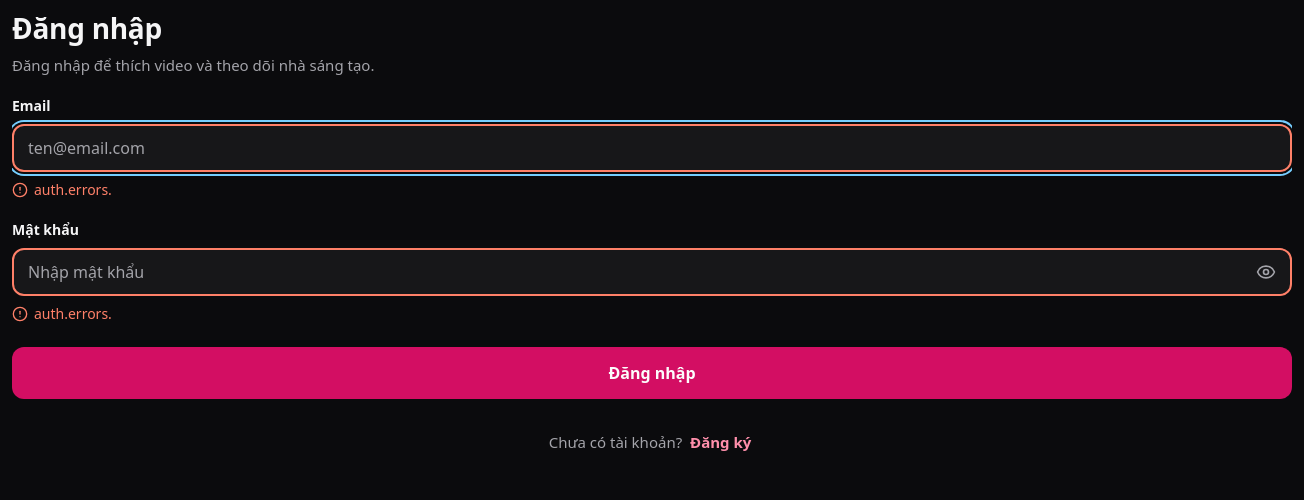
Test case: AuthForm › vi: UNAVAILABLE is an alert with a title and a body
Type "minhanh@gmail.com" into the field labelled "Email". click: (652,148)
box: [14, 126, 1290, 170]
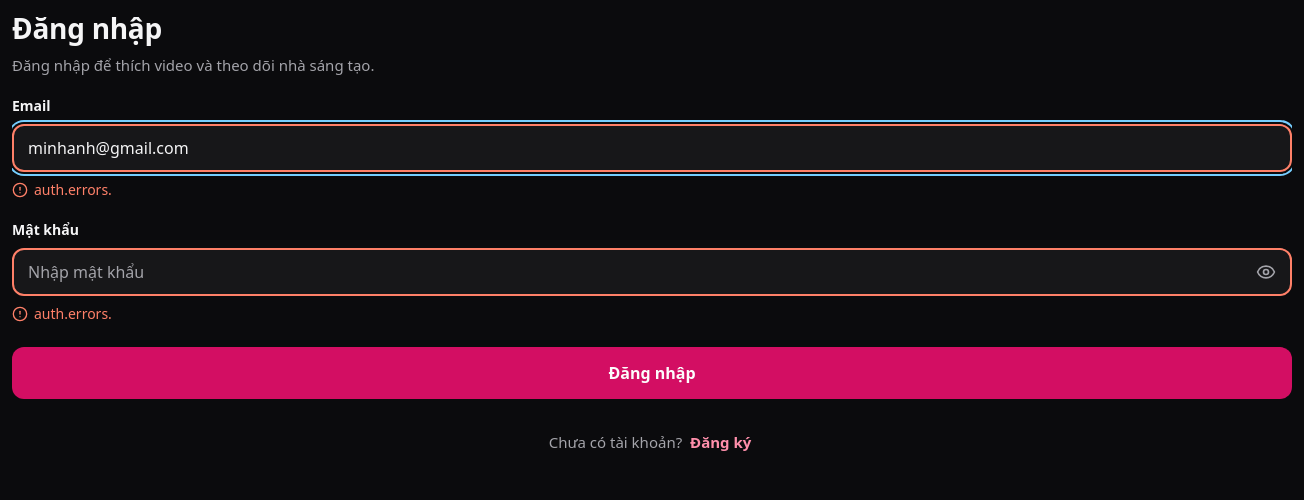
Type "12345678" into the password field labelled "Mật khẩu". click: (629,272)
box: [14, 250, 1244, 294]
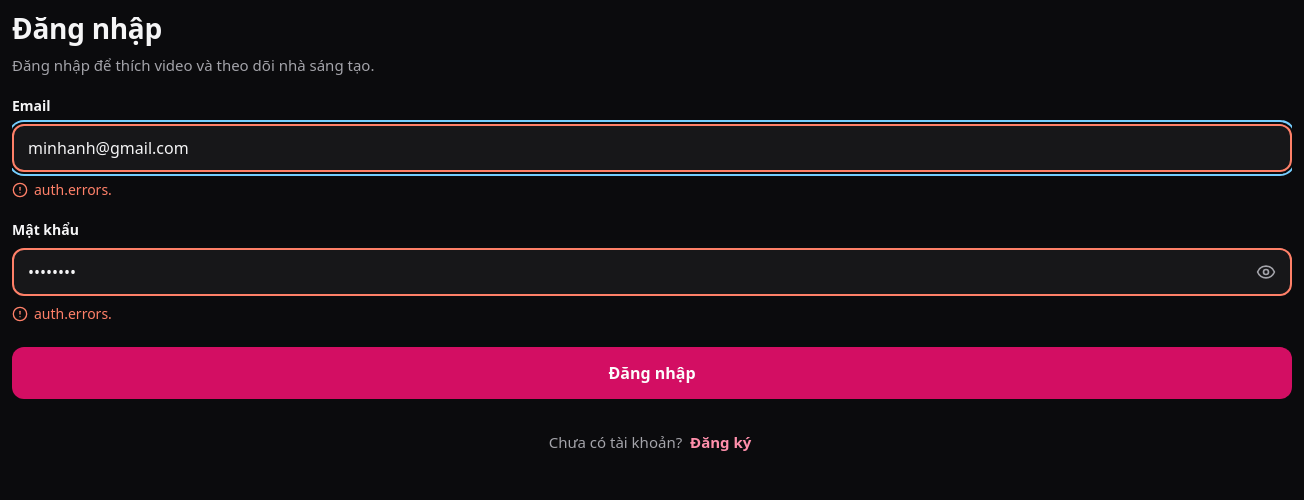
Click the button "Đăng nhập". click: (652,373)
box: [12, 347, 1292, 399]
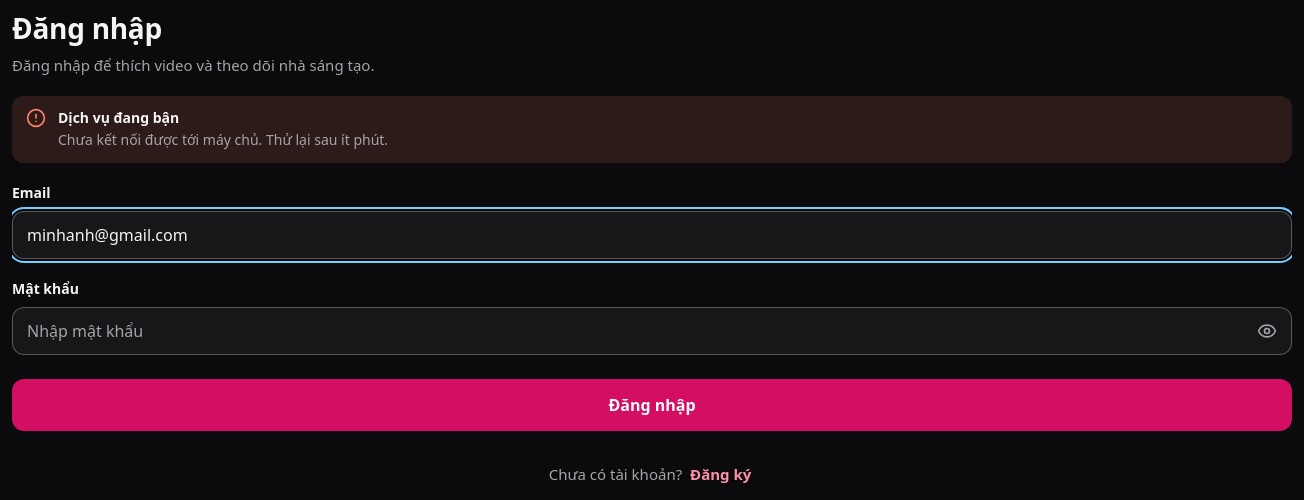
Expected: the icon next to "Dịch vụ đang bận" is shown, [26, 108, 46, 128]
Now the message shows "Dịch vụ đang bận", box [58, 108, 179, 127]
Now the message shows "Chưa kết nối được tới máy chủ. Thử lại sau ít phút.", box [58, 130, 388, 149]
